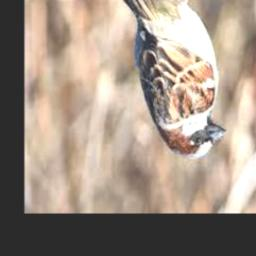Sparrow: (110, 0, 227, 160)
